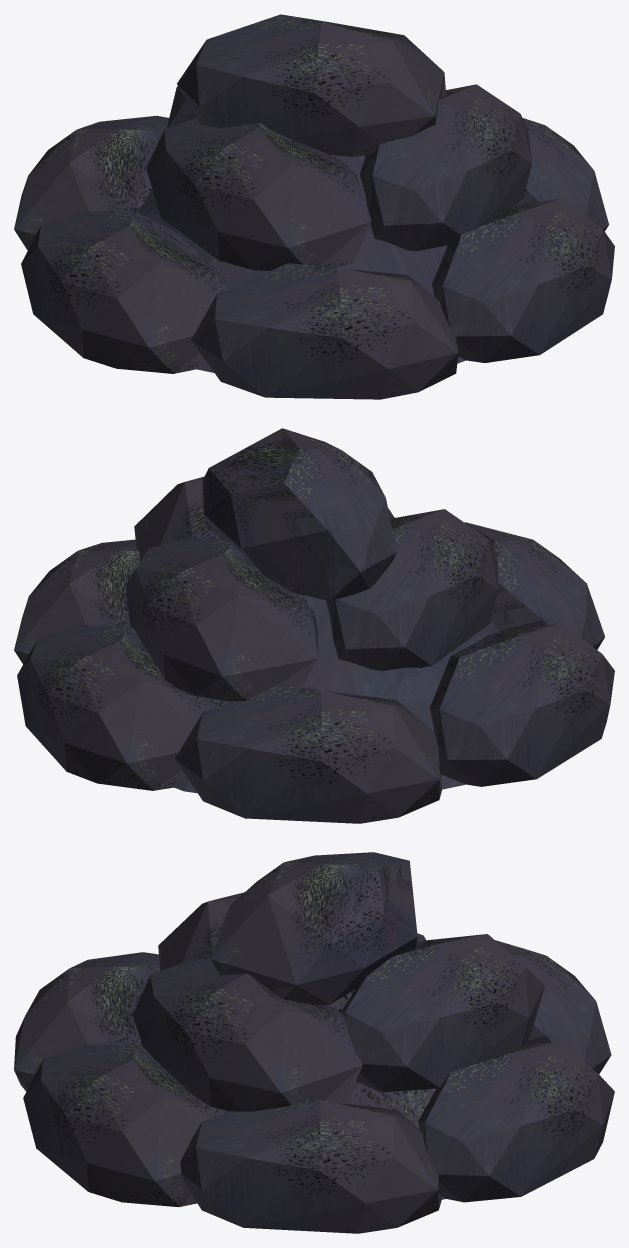
The model's file is Grave_shipwreck04.fbx.
The picture shows the model from 3 angles, top to bottom: view 1: azimuth 30°, elevation 25°; view 2: azimuth 150°, elevation 25°; view 3: azimuth 270°, elevation 25°; orthographic projection.
Visible parts, largest first — view 1: Grave_shipwreck04; view 2: Grave_shipwreck04; view 3: Grave_shipwreck04.
Part boxes in pixels (bbox=[...]): Grave_shipwreck04: bbox=[14, 14, 614, 399]; Grave_shipwreck04: bbox=[14, 428, 614, 823]; Grave_shipwreck04: bbox=[14, 852, 614, 1233].
Bounding box in the file's own units: 0.8272 × 0.3683 × 0.8094.
1 material, 1 textured.
